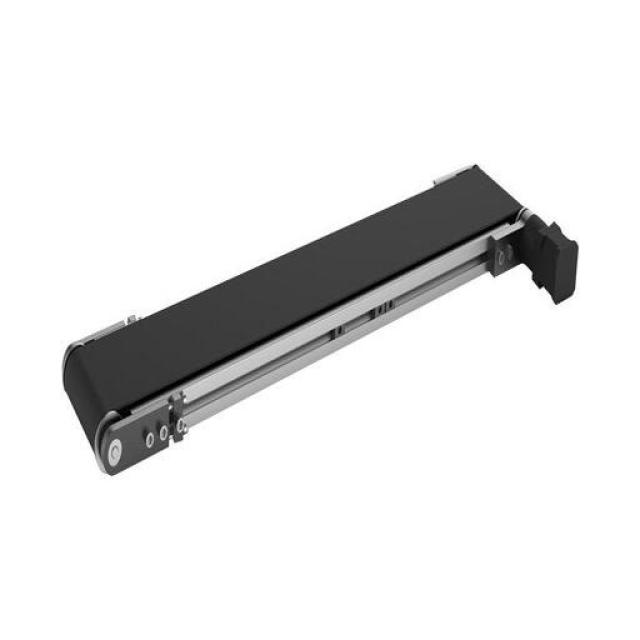conveyor: (62, 166, 537, 466)
